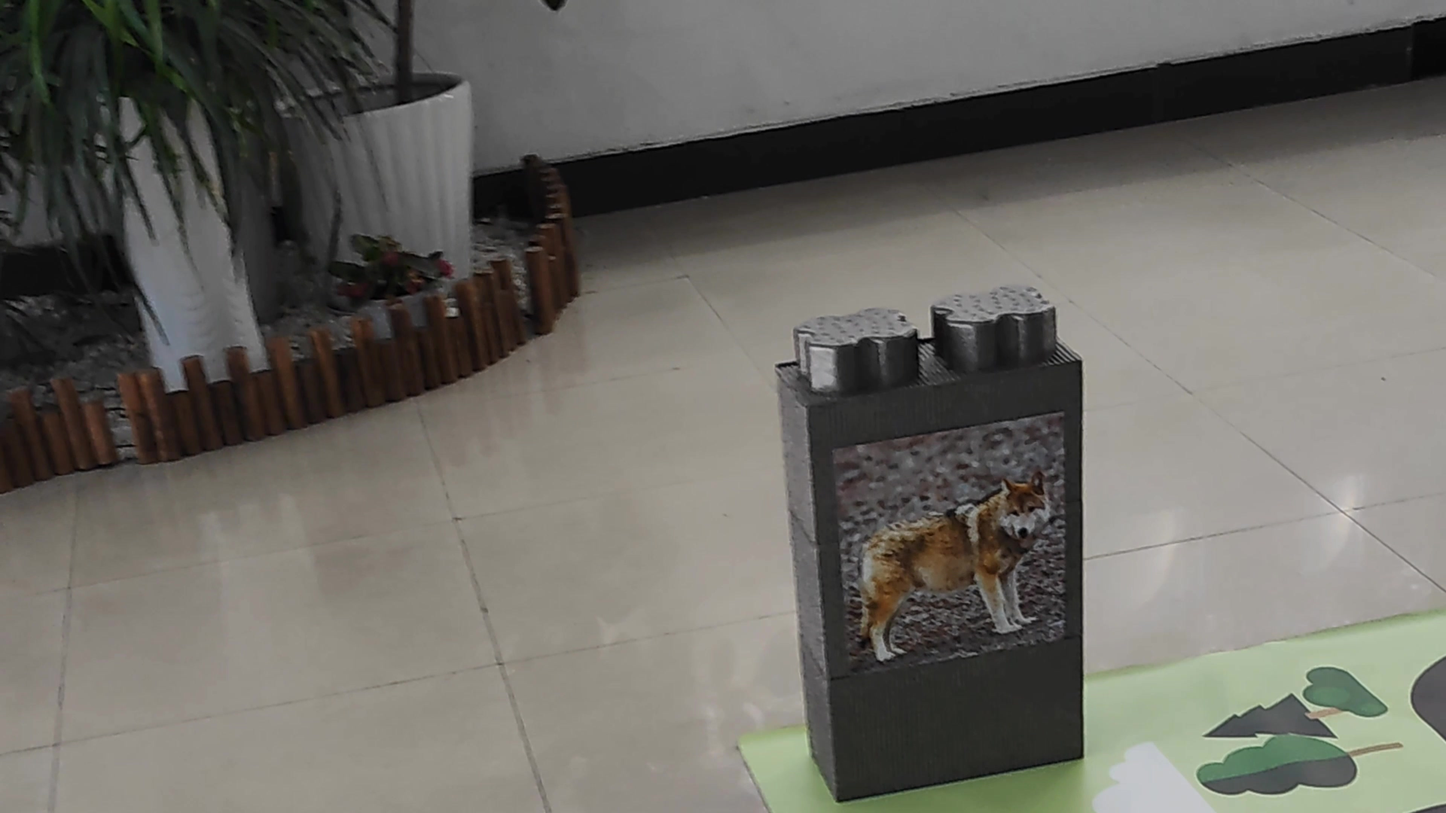wolf: (831, 416, 1071, 661)
